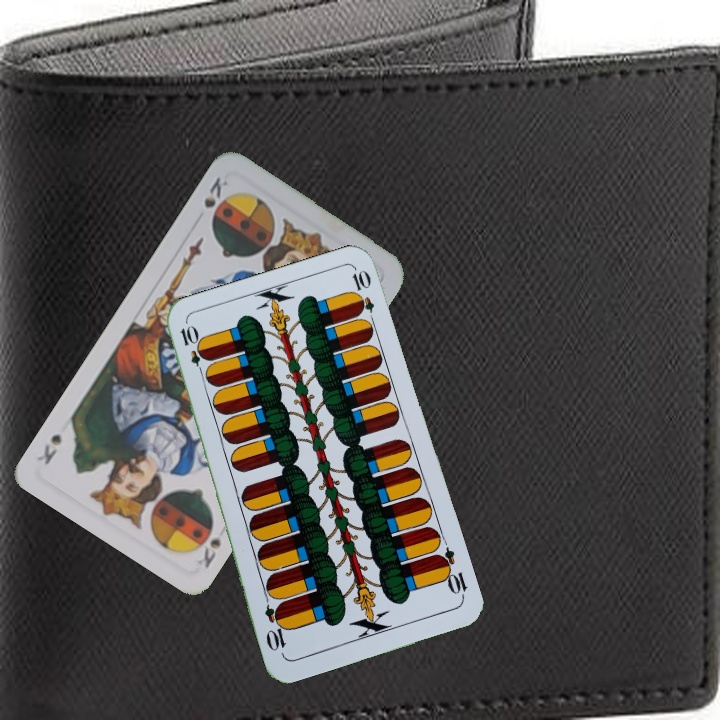E10: (432, 544, 470, 601), (176, 321, 209, 380)
SK: (190, 517, 224, 571), (200, 172, 231, 211)
